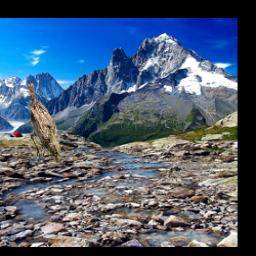Sparrow: (27, 81, 60, 165)
